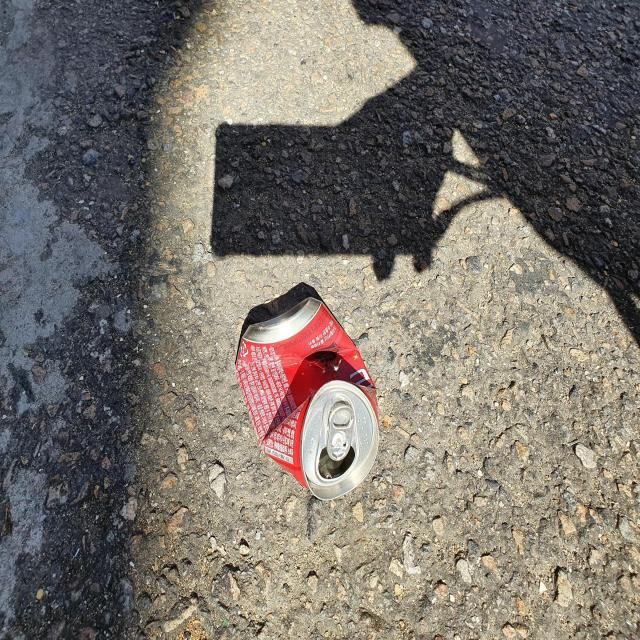can: (235, 296, 379, 501)
